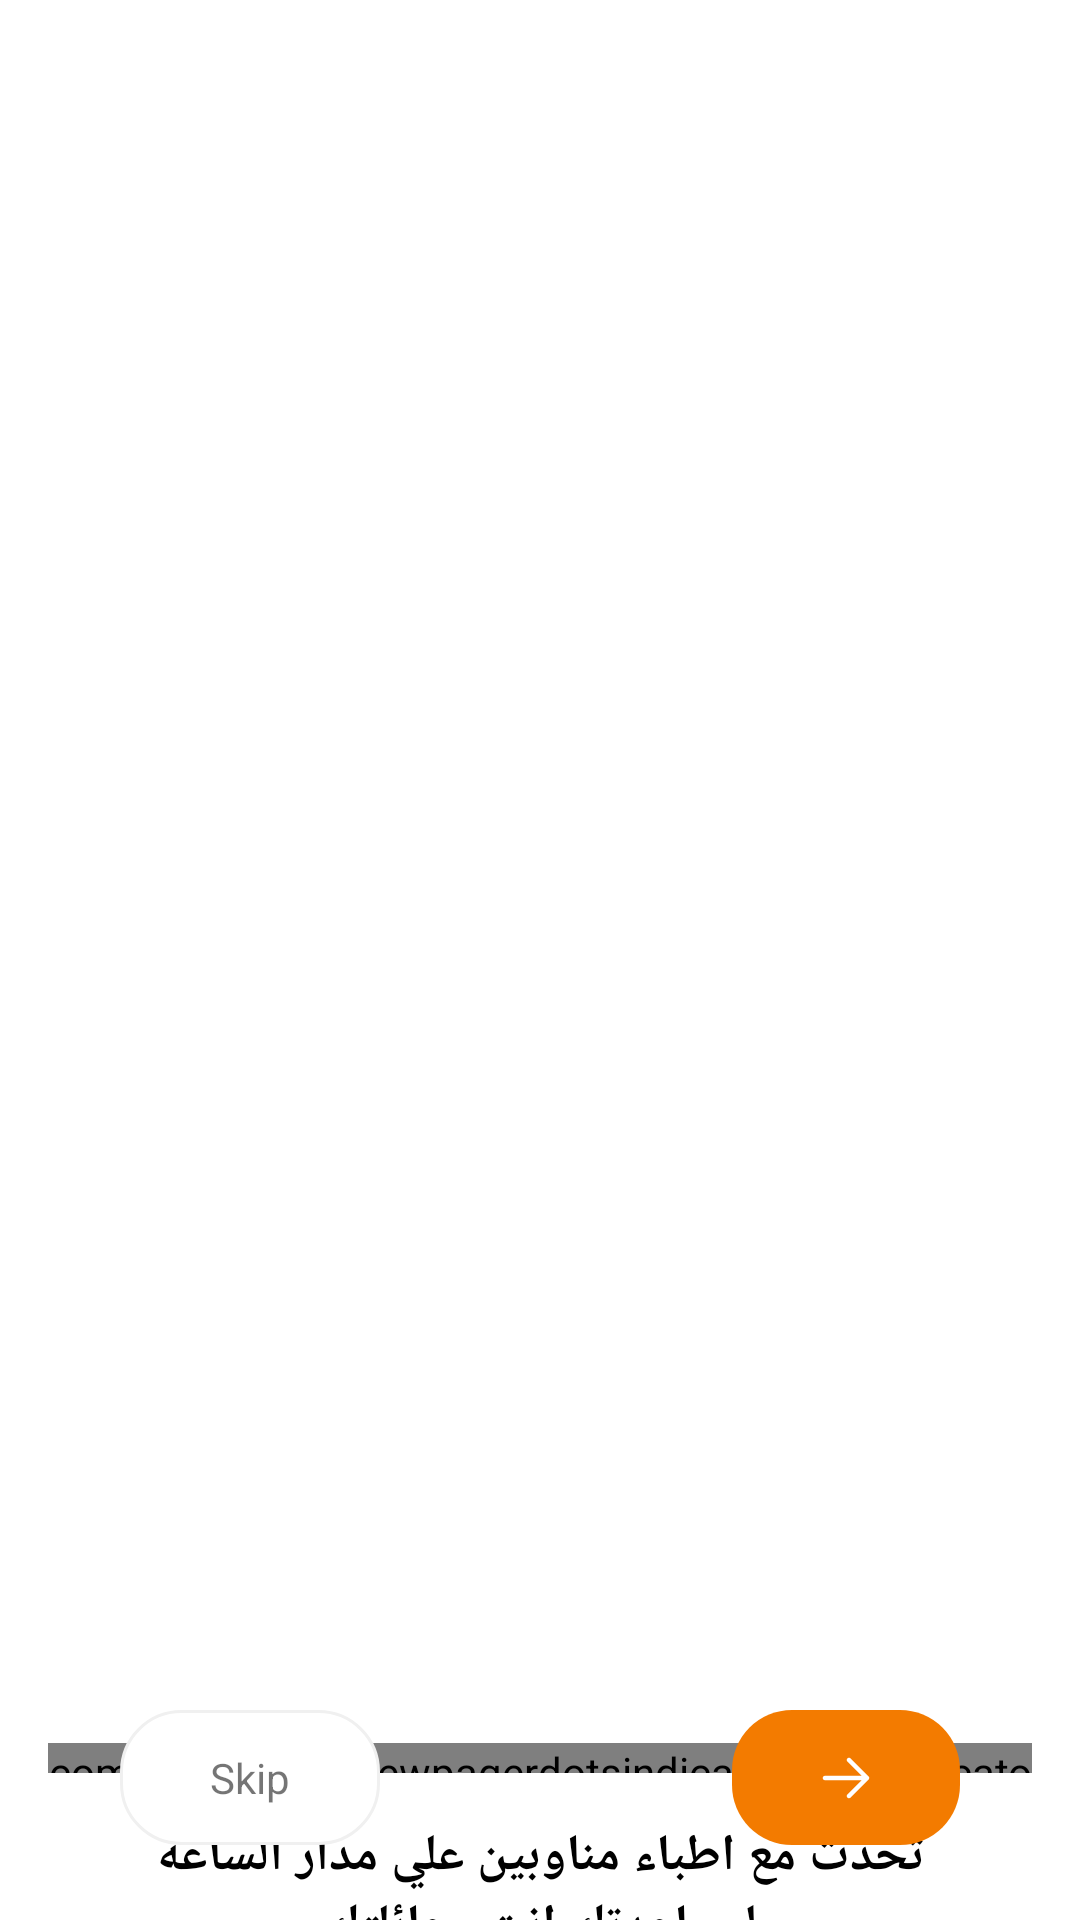

Locate icon controls on the screen. Image size 1080 x 1920, boxes as (x1, y1, x2, y2).
irrow: (732, 1710, 960, 1845)
